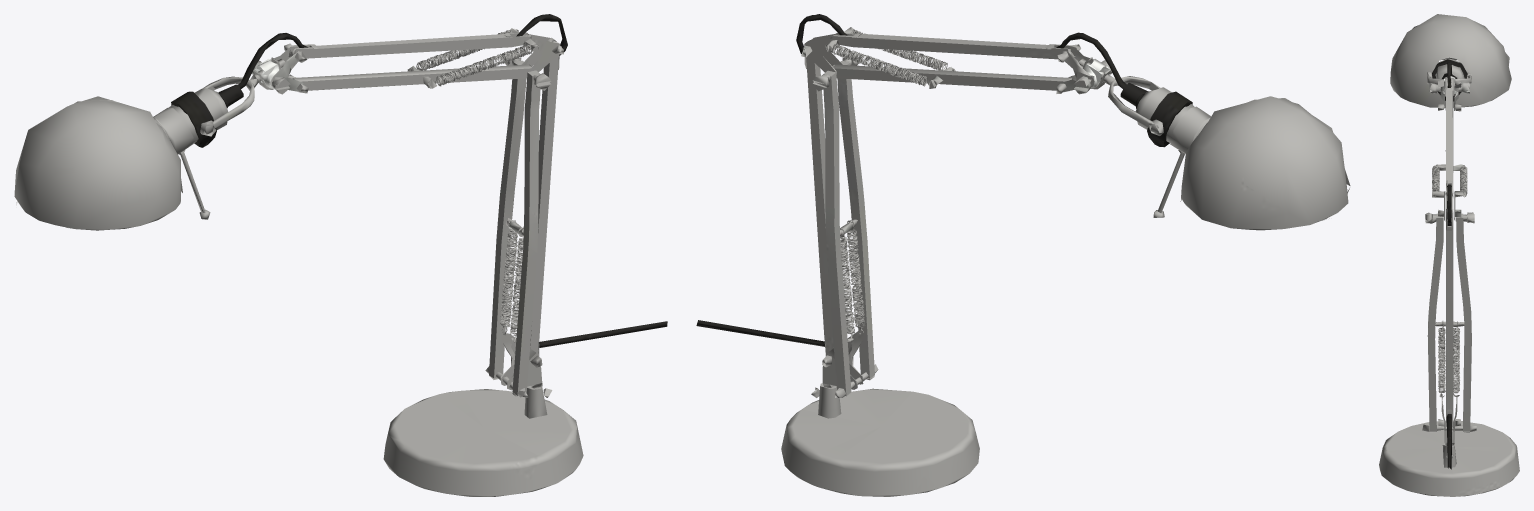
Rendered from 15 - FORSÅ Work lamp - nickel-plated.glb.
3 views of the same model, side by side, from view 1: azimuth 30°, elevation 25°; view 2: azimuth 150°, elevation 25°; view 3: azimuth 270°, elevation 25° (orthographic). The views are drawn at different scales.
Parts seen in each view (by area): view 1: 80146763-FORSÃƒâ€¦001; view 2: 80146763-FORSÃƒâ€¦001; view 3: 80146763-FORSÃƒâ€¦001.
Boxes of the visible parts, x1,y1,x2,y2 form: 80146763-FORSÃƒâ€¦001: [14, 14, 667, 496]; 80146763-FORSÃƒâ€¦001: [696, 14, 1350, 496]; 80146763-FORSÃƒâ€¦001: [1379, 14, 1519, 496].
Size of the model in its own units: 0.5691 by 0.3984 by 0.1522.
Materials: 1 (1 with a texture image).
